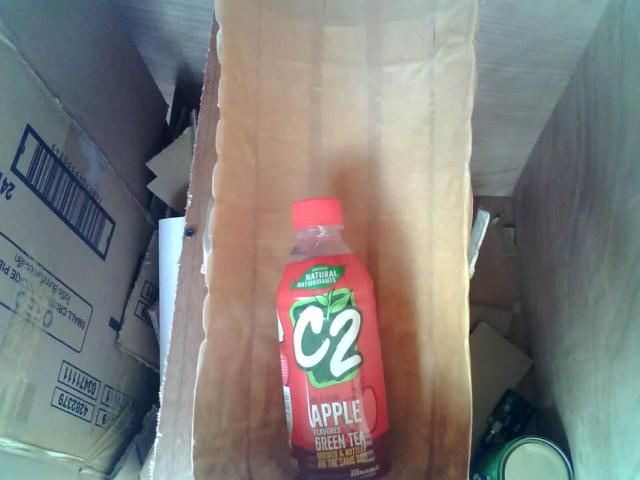small_bottle: (260, 190, 406, 480)
